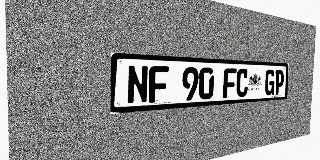0: (199, 67, 214, 100)
9: (182, 67, 199, 101)
C: (236, 68, 249, 97)
F: (149, 66, 169, 103), (223, 68, 237, 98)
G: (265, 69, 275, 95)
N: (127, 65, 149, 104)
P: (274, 70, 284, 95)
